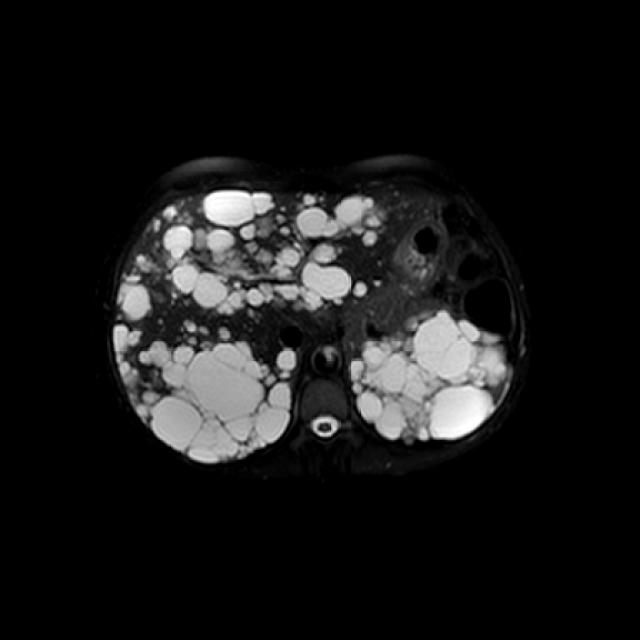sol: (350, 308, 514, 443)
